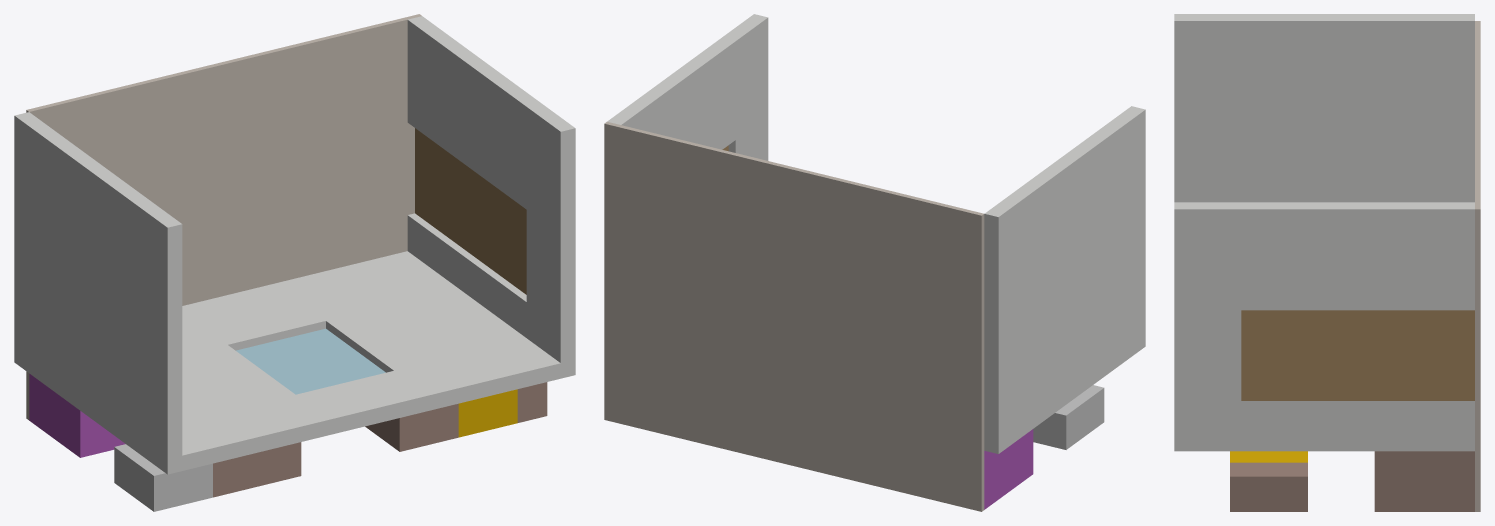
The model's file is i_shape_kitchen_room.glb.
3 views of the same model, side by side, from view 1: azimuth 30°, elevation 25°; view 2: azimuth 150°, elevation 25°; view 3: azimuth 270°, elevation 25° (orthographic). The views are drawn at different scales.
Visible parts, largest first — view 1: world; view 2: world; view 3: world.
Boxes of the visible parts, x1,y1,x2,y2 form: world: [14, 14, 575, 511]; world: [604, 14, 1145, 511]; world: [1174, 14, 1480, 511].
Bounding box in the file's own units: 415 × 300 × 275.
